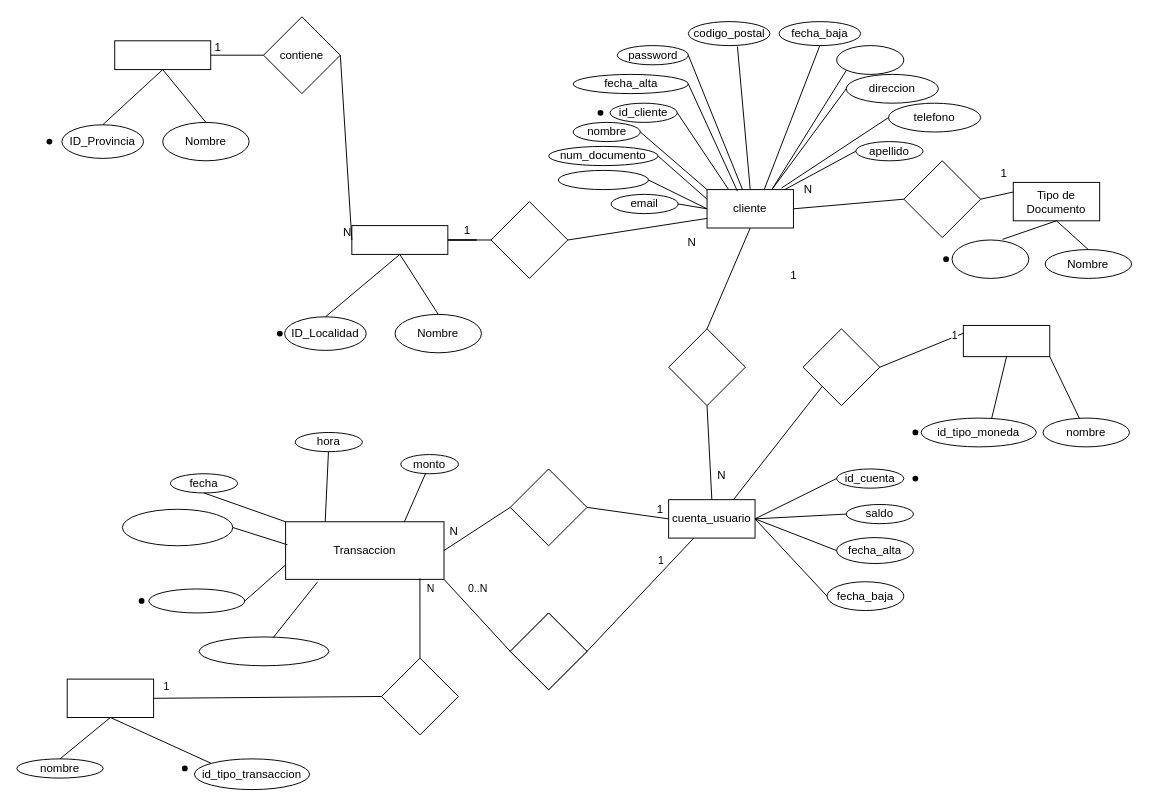
This 1149x806 diagram has some shape labels left out. Each missing label, with the centre of its shape:
"adquiere" goes at [706,367].
"bloqueado" goes at [602,179].
"cotizacion_moneda" goes at [177,527].
"direccion_billetera" goes at [263,651].
"encuentra" goes at [529,239].
"ID_TipoDoc" goes at [990,258].
"id_transaccion" goes at [196,600].
"Localidad" goes at [399,239].
"nrodoc" goes at [870,59].
"opera" goes at [548,651].
"origina" goes at [548,507].
"posee" goes at [942,199].
"Provincia" goes at [162,55].
"Realiza" goes at [419,696].
"tiene" goes at [841,367].
"Tipo_Moneda" goes at [1006,340].
"tipo_transaccion" goes at [110,698].
